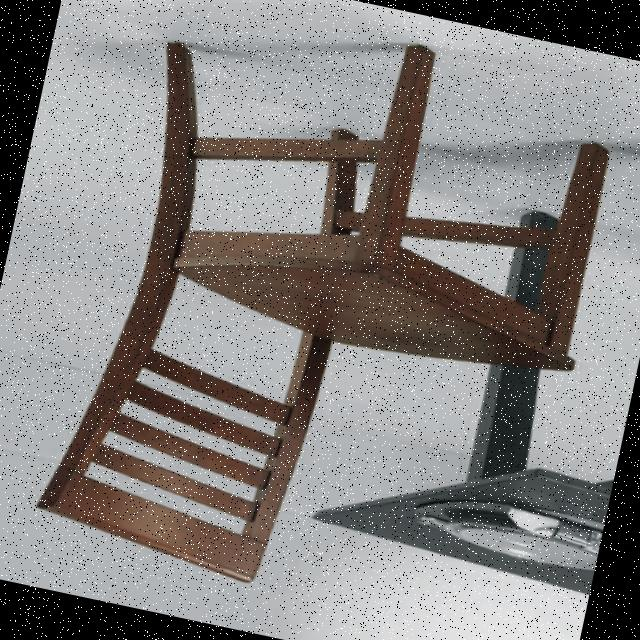Chair: (0, 0, 640, 640)
Table: (285, 181, 640, 614)
